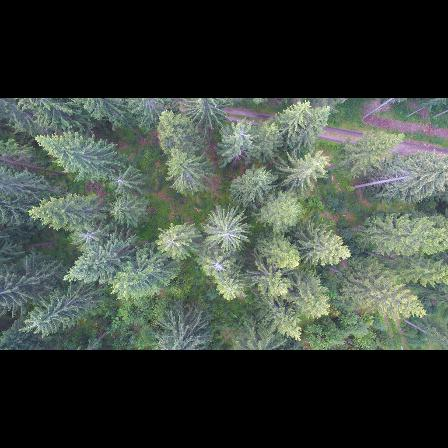Sick: (100, 166, 139, 192), (197, 252, 228, 278), (70, 224, 101, 250), (159, 234, 185, 257)
